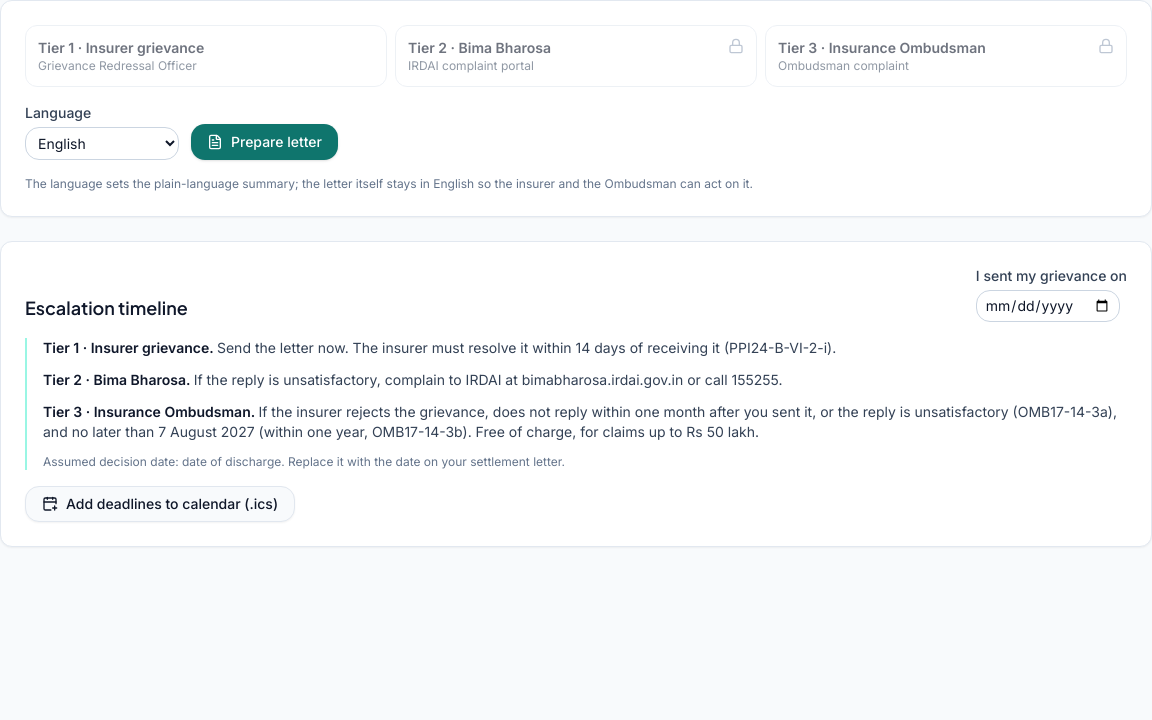
Test: ActionCentre: drafting and approval › keeps tiers 2 and 3 locked and shows the server's message when approval fails
The width and height of the screenshot is (1152, 720).
Click the button "Prepare letter" at x=264, y=142, box [191,124,338,160]
(page scrolled)
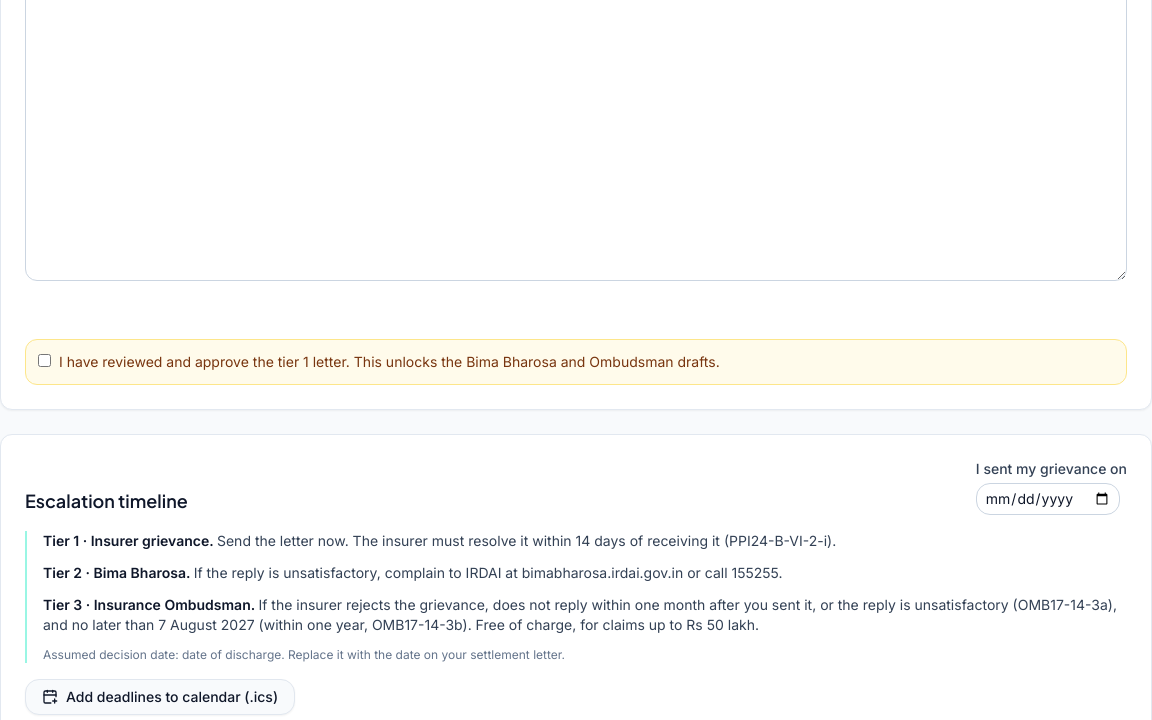
Click the checkbox labelled "approve the tier 1 letter" at x=44, y=360, box [38,354,51,366]
(page scrolled)
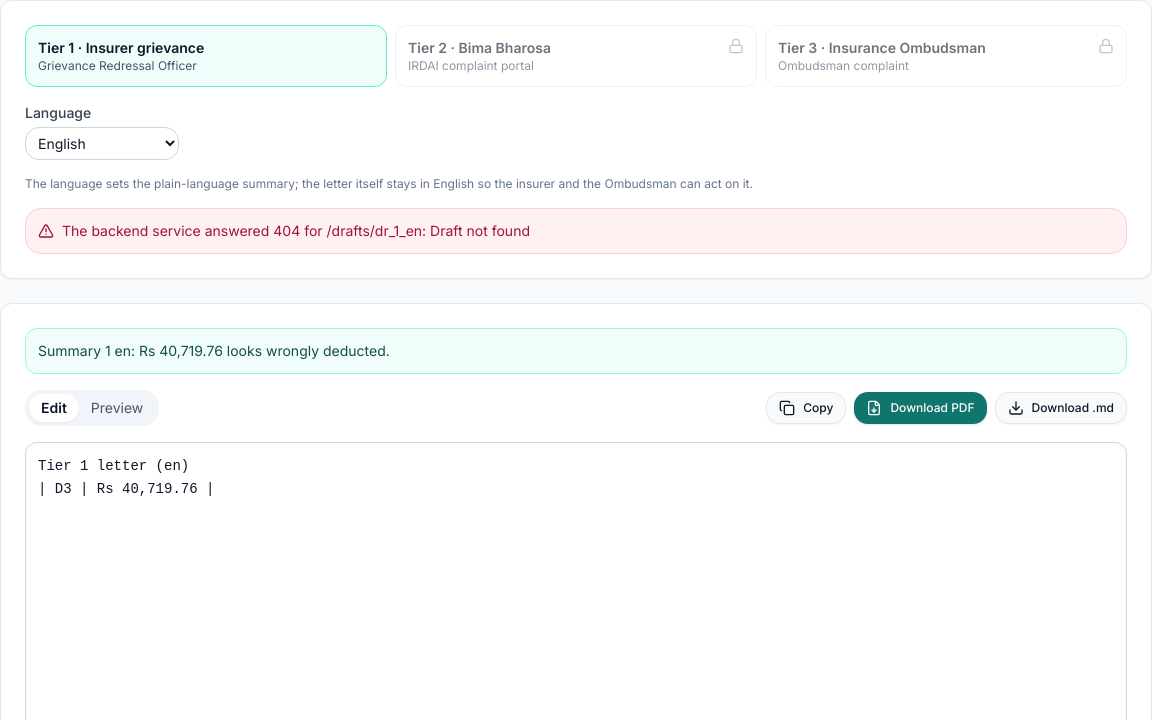
Expected: the message shows "Draft not found", [62,222,530,239]
